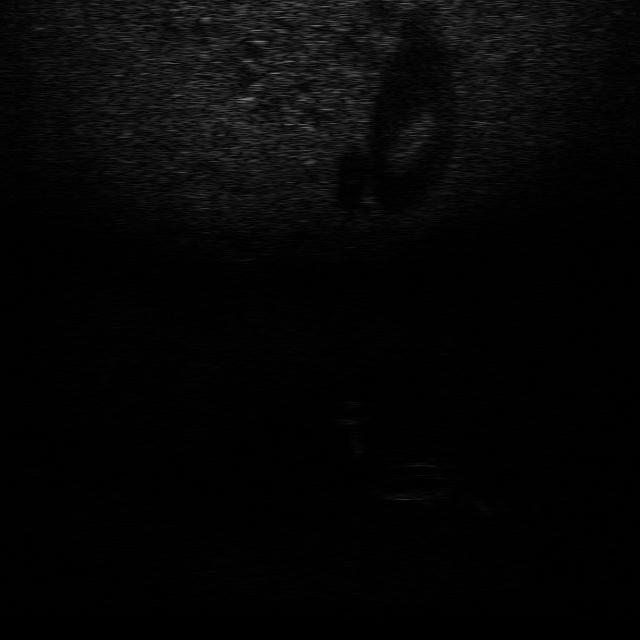ball: (328, 398, 377, 426)
tyre: (368, 456, 458, 504)
